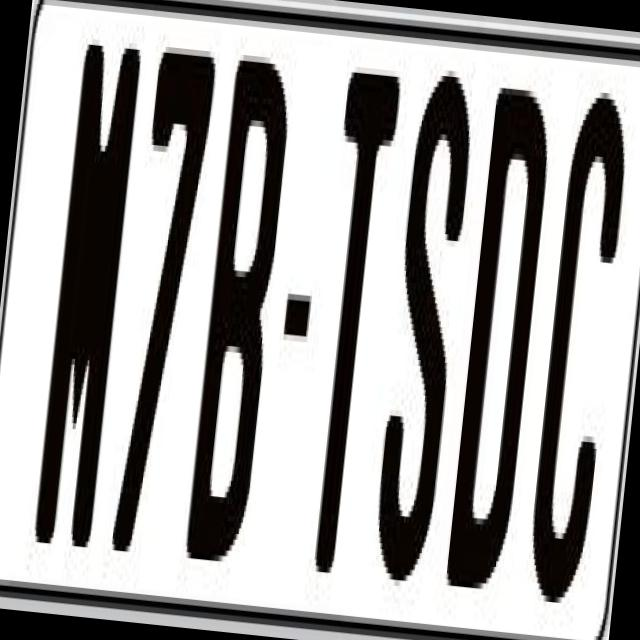7: (105, 45, 222, 568)
B: (180, 42, 290, 557)
C: (518, 89, 632, 622)
D: (441, 69, 553, 596)
M: (26, 43, 146, 571)
S: (364, 73, 480, 583)
T: (294, 54, 405, 586)
